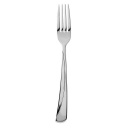Fork: (42, 2, 82, 128)
